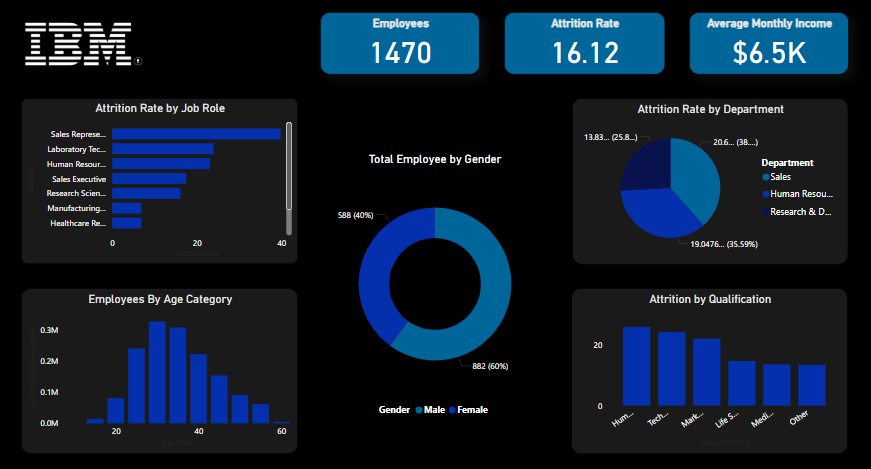

The page's visual inventory and layout, read from the dashboard file:
{"tool":"powerbi","page":{"name":"Descriptive","canvas":[1280,720],"ordinal":0},"visuals":[{"type":"card","title":"Employees","fields":{"Values":["Sum(HR-Data.EmployeeCount)"]},"box":[472,19.8,235.3,92.1],"z":0},{"type":"card","title":"Attrition Rate","fields":{"Values":["HR-Data.Attrition Rate"]},"box":[742.1,19.8,236.7,92.1],"z":1000},{"type":"card","title":"Average Monthly Income","fields":{"Values":["HR-Data.Average Monthly Income"]},"box":[1013.5,19.8,235.3,92.1],"z":2000},{"type":"barChart","title":"Attrition Rate by Job Role","fields":{"Category":["HR-Data.JobRole"],"Y":["HR-Data.Attrition Rate"]},"box":[32.6,147.4,406.8,243.8],"z":3000},{"type":"donutChart","title":"Total Employee by Gender","fields":{"Category":["HR-Data.Gender"],"Y":["Sum(HR-Data.EmployeeCount)"]},"box":[454,226.3,373.2,398.2],"z":4000},{"type":"clusteredColumnChart","title":"Employees By Age Category","fields":{"Category":["HR-Data.Age (bins)"],"Y":["Sum(HR-Data.EmployeeNumber)"]},"box":[32.3,426.1,407,243.9],"z":5000},{"type":"pieChart","fields":{"Category":["HR-Data.Department"],"Y":["HR-Data.Attrition Rate"]},"box":[842,146.9,405.6,245.4],"z":6000},{"type":"columnChart","title":"Attrition by Qualification","fields":{"Category":["HR-Data.EducationField"],"Y":["HR-Data.Attrition Rate"]},"box":[840.6,426.7,406.8,243.8],"z":7000},{"type":"image","box":[32.3,22,185.1,91.1],"z":8000}]}

Visuals, with their boxes on the page's 1280x720 design canvas (x1, y1, x2, y2). These are canvas units, not pixel positions in the 871x469 screenshot, which may show the page scaled, cropped or inside an application window:
"Employees" card: bbox=(472, 20, 707, 112)
"Attrition Rate" card: bbox=(742, 20, 979, 112)
"Average Monthly Income" card: bbox=(1014, 20, 1249, 112)
"Attrition Rate by Job Role" barChart: bbox=(33, 147, 439, 391)
"Total Employee by Gender" donutChart: bbox=(454, 226, 827, 624)
"Employees By Age Category" clusteredColumnChart: bbox=(32, 426, 439, 670)
pieChart - HR-Data.Department x HR-Data.Attrition Rate: bbox=(842, 147, 1248, 392)
"Attrition by Qualification" columnChart: bbox=(841, 427, 1247, 670)
image: bbox=(32, 22, 217, 113)
